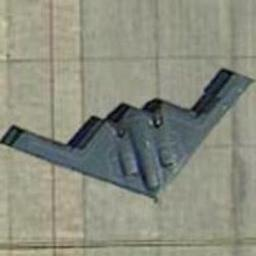Airplane: (0, 66, 255, 204)
